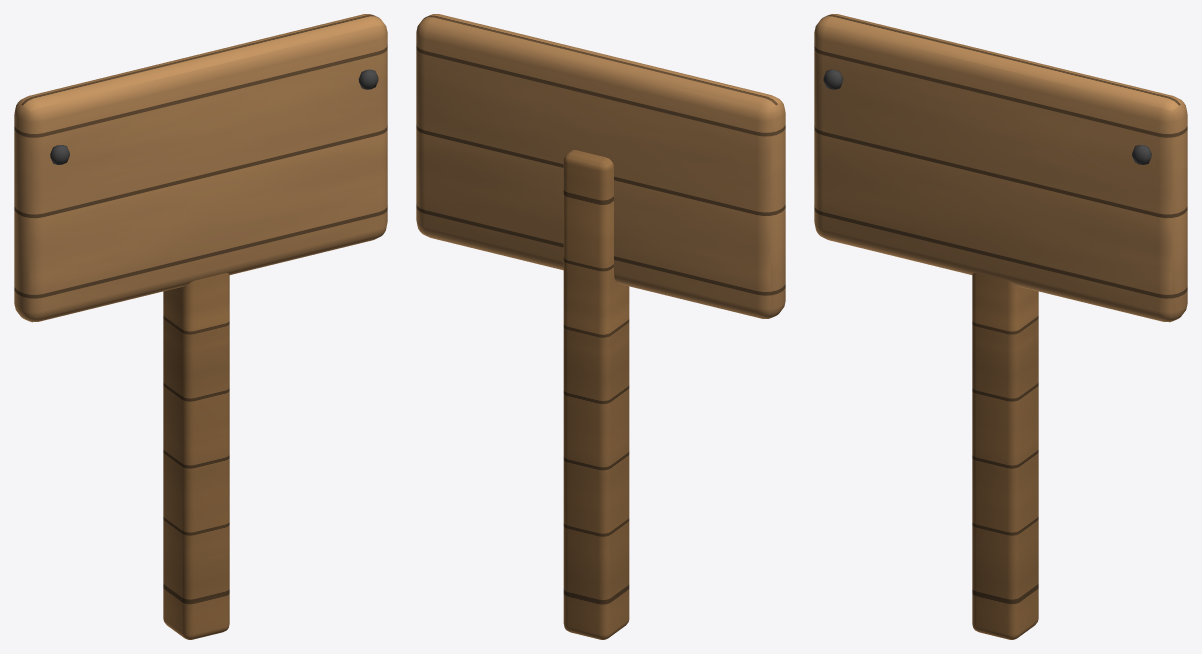
Rendered from sign.glb.
The picture shows the model from 3 angles, left to right: view 1: azimuth 30°, elevation 25°; view 2: azimuth 150°, elevation 25°; view 3: azimuth 330°, elevation 25°; orthographic projection.
Parts seen in each view (by area): view 1: sign; view 2: sign; view 3: sign.
Boxes of the visible parts, x1,y1,x2,y2 form: sign: (14,14,387,639); sign: (416,14,785,639); sign: (814,14,1187,639).
Size of the model in its own units: 0.95 by 1.42 by 0.16.
3 materials, 2 textured.
